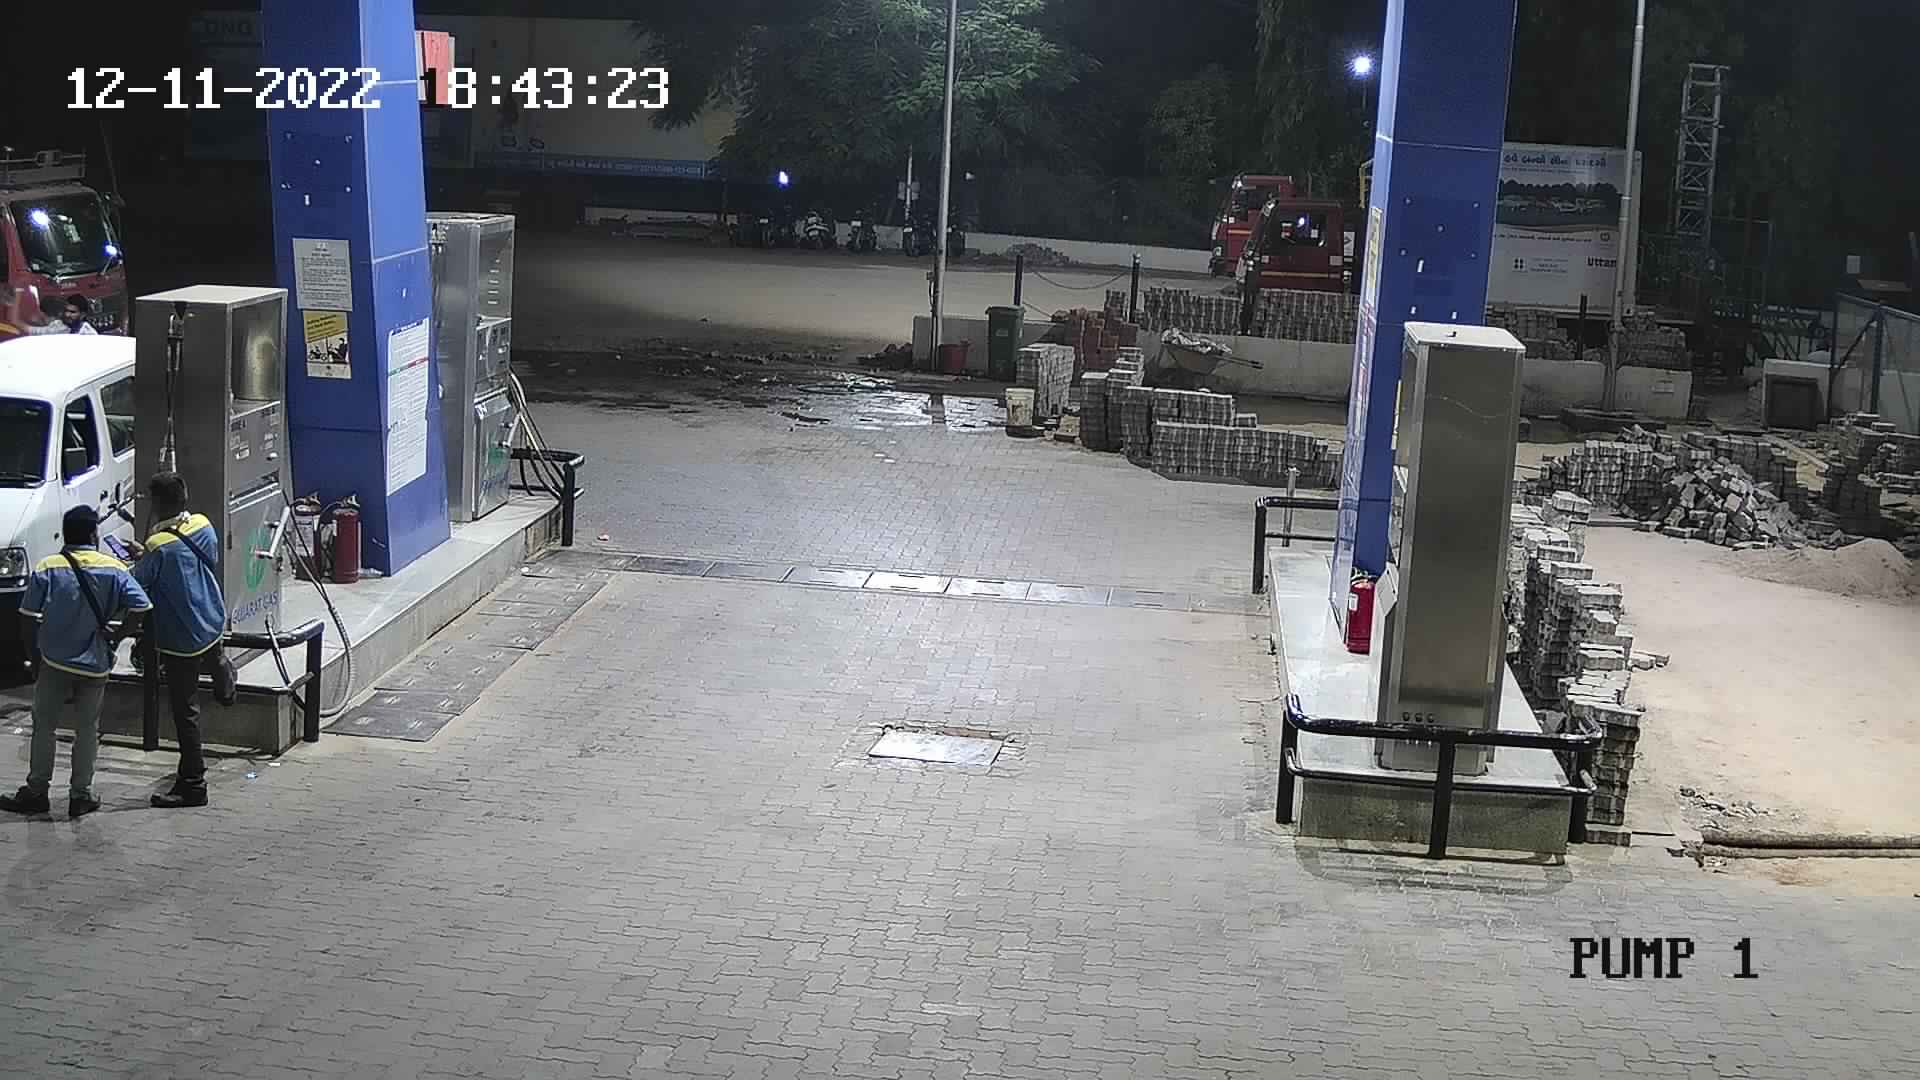Bike: (748, 181, 798, 252), (891, 189, 938, 260), (799, 187, 844, 258), (841, 191, 889, 257)
Car: (0, 294, 207, 659)
HMV: (0, 158, 138, 359), (1224, 154, 1371, 335), (1199, 154, 1375, 293)
Others: (1, 502, 150, 825), (115, 460, 228, 815)
